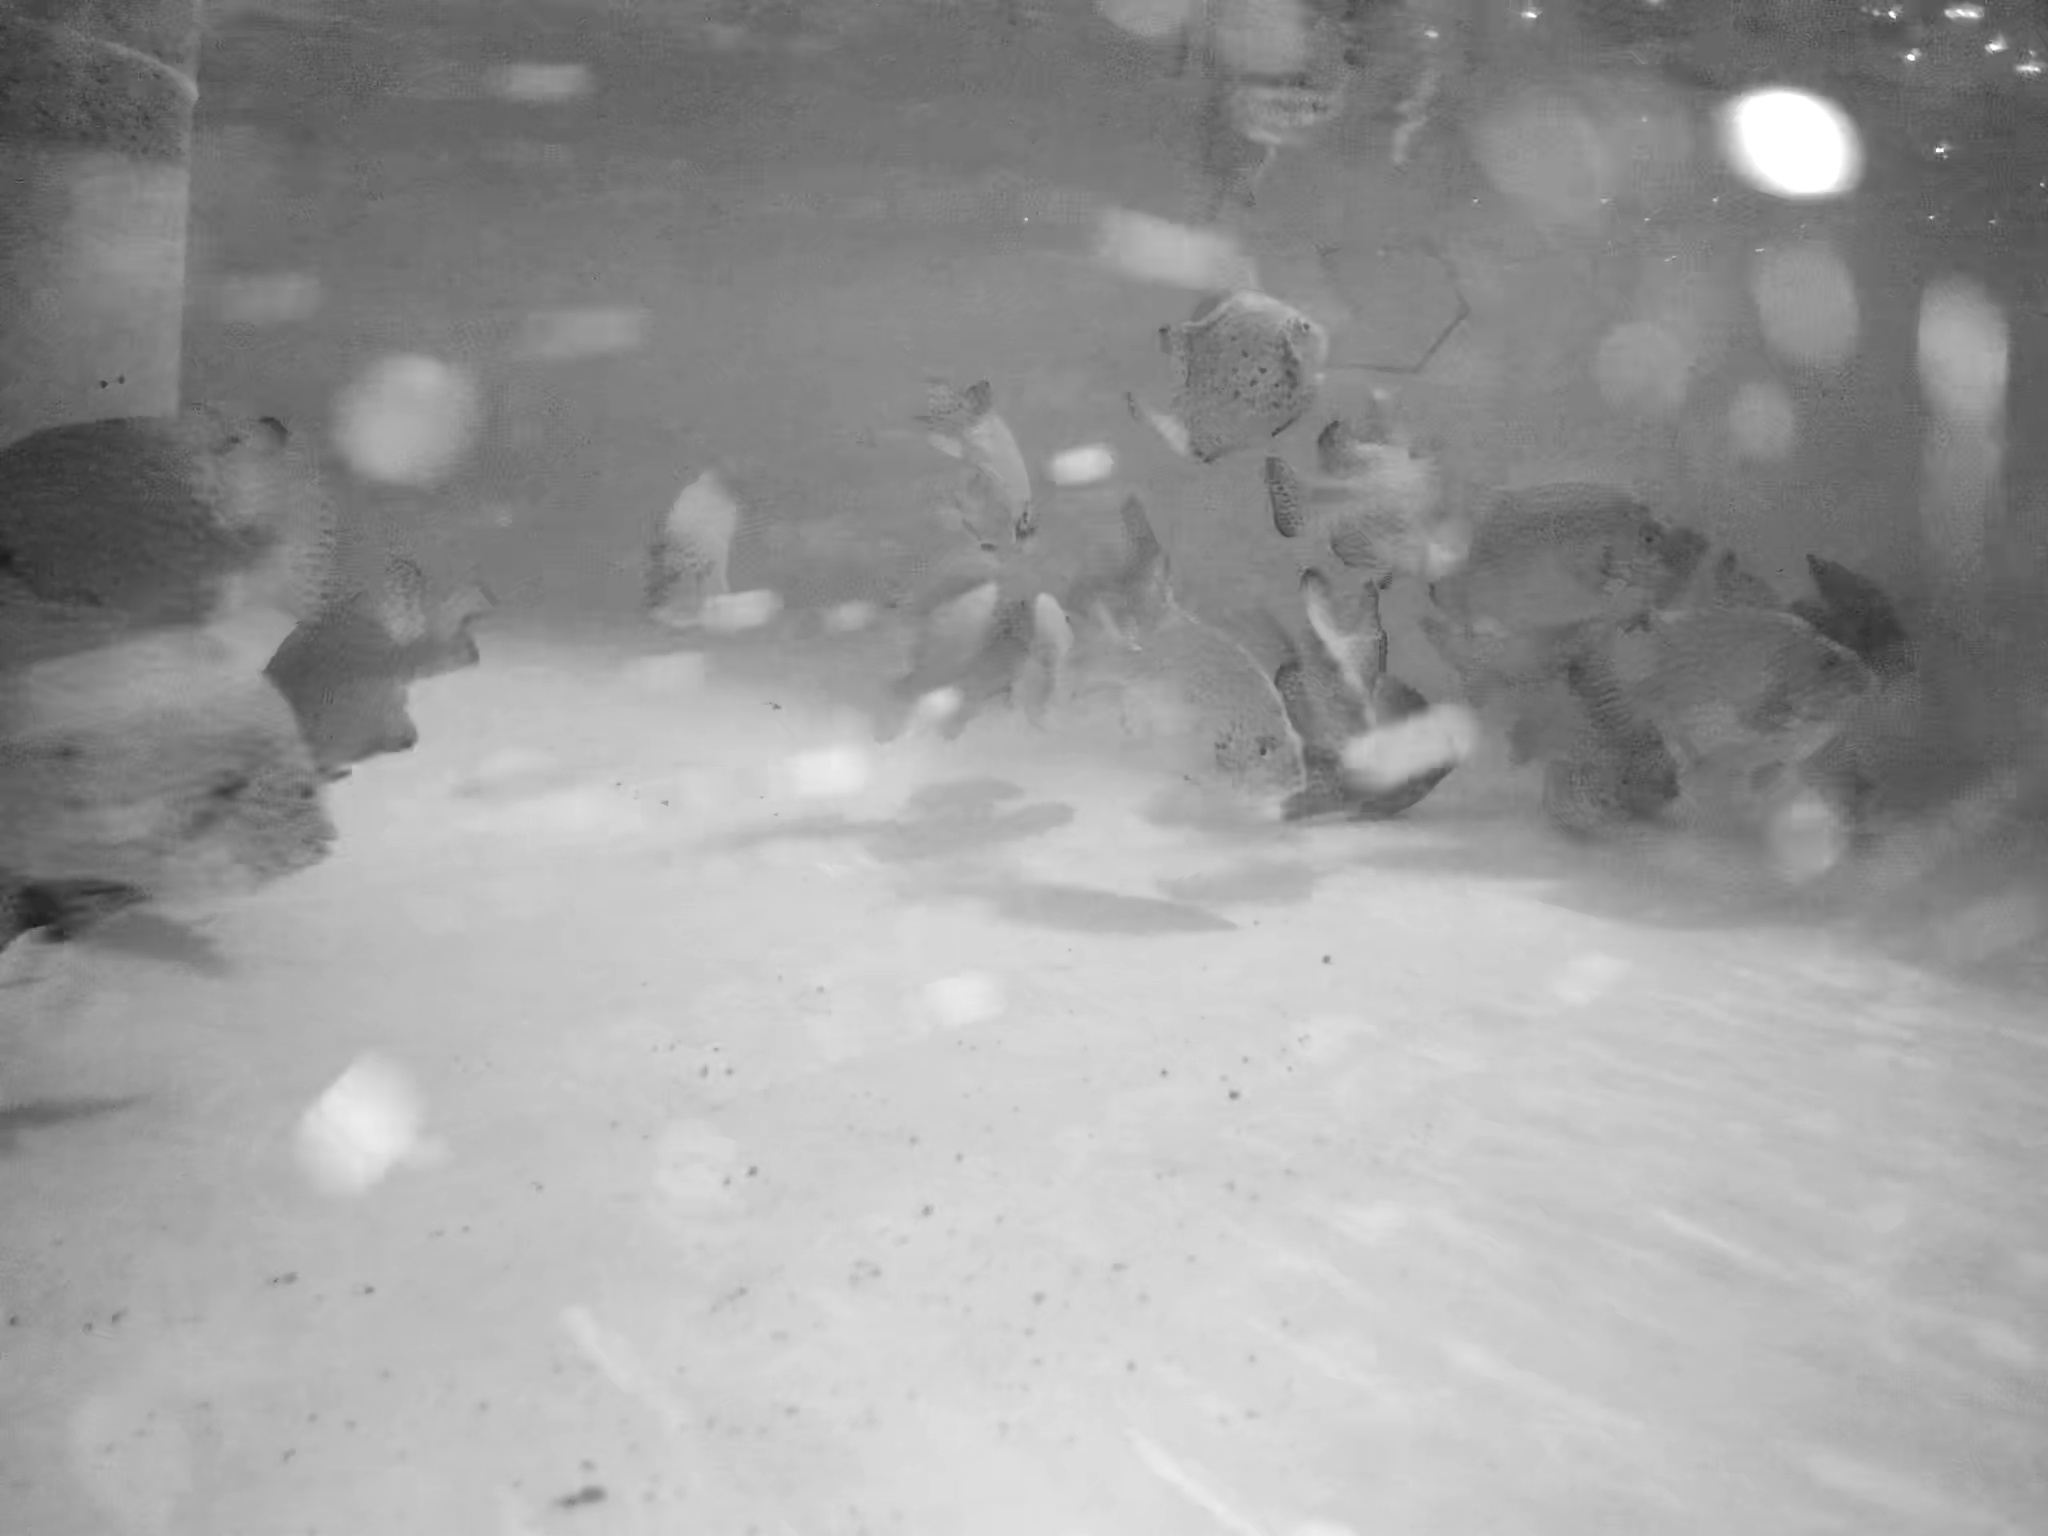fish: (26, 641, 348, 899), (8, 419, 387, 620), (1095, 510, 1326, 824), (1622, 602, 1908, 786), (244, 571, 519, 753), (900, 342, 1063, 557), (1284, 416, 1538, 553), (1163, 286, 1327, 482), (1451, 490, 1716, 602), (643, 453, 768, 653), (1484, 700, 1675, 828), (1792, 545, 1951, 674), (892, 579, 1009, 737), (998, 592, 1064, 728)
